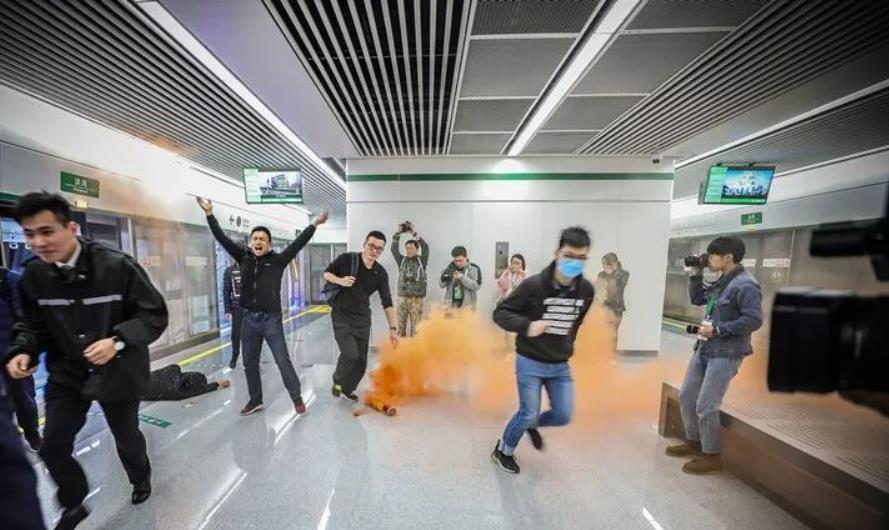smoke: (373, 315, 473, 403), (589, 344, 640, 419), (477, 340, 515, 406), (589, 310, 625, 337)
